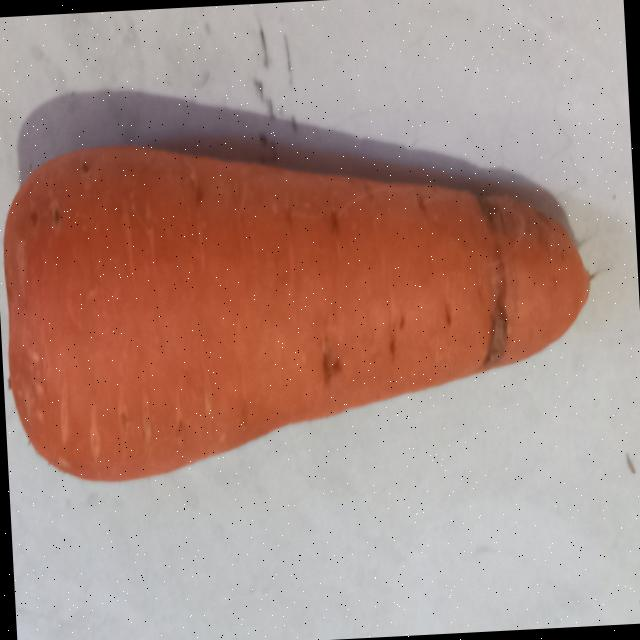carrot: (3, 145, 589, 480)
